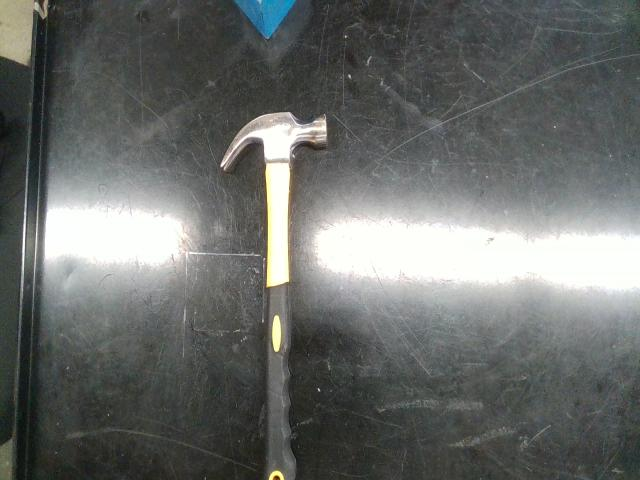Hammer: (221, 112, 328, 478)
